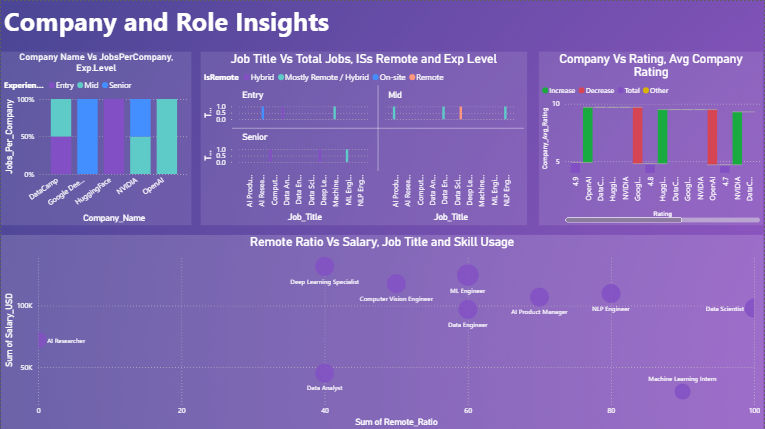

The dashboard page shown, as its layout file describes it:
{"tool":"powerbi","page":{"name":"Company & Role Insights","canvas":[1280,720],"ordinal":2},"visuals":[{"type":"hundredPercentStackedColumnChart","title":"Company Name Vs JobsPerCompany, Exp.Level","fields":{"Category":["Dim_Companies.Company_Name"],"Y":["Dim_Companies.Jobs_Per_Company"],"Series":["Fact_Jobs.Experience_Level"]},"box":[0,84.6,319.7,291.5],"z":0},{"type":"clusteredColumnChart","title":"Job Title Vs Total Jobs, ISs Remote and Exp Level","fields":{"Category":["Fact_Jobs.Job_Title"],"Y":["Fact_Jobs.Total_Jobs"],"Series":["Fact_Jobs.IsRemote"],"Rows":["Fact_Jobs.Experience_Level"]},"box":[336.2,84.6,547.8,291.5],"z":1000},{"type":"waterfallChart","title":"Company Vs Rating, Avg Company Rating","fields":{"Category":["Dim_Companies.Rating"],"Breakdown":["Dim_Companies.Company_Name"],"Y":["Dim_Companies.Company_Avg_Rating"]},"box":[902.8,84.6,376.2,291.5],"z":2000},{"type":"scatterChart","title":"Remote Ratio Vs Salary, Job Title and Skill Usage ","fields":{"Category":["Fact_Jobs.Job_Title"],"X":["Sum(Fact_Jobs.Remote_Ratio)"],"Y":["Sum(Fact_Jobs.Salary_USD)"],"Size":["Dim_Skills.Skill_Usage_Count"]},"box":[0,392.6,1279,326.8],"z":2001},{"type":"textbox","box":[0,0,569.8,84],"z":2002}]}

Visuals, with their boxes in screenshot pixels (x1, y1, x2, y2), scaled from the page's 1280x720 canvas onto the 765x429 screenshot:
"Company Name Vs JobsPerCompany, Exp.Level" hundredPercentStackedColumnChart: 0:50:191:224
"Job Title Vs Total Jobs, ISs Remote and Exp Level" clusteredColumnChart: 201:50:528:224
"Company Vs Rating, Avg Company Rating" waterfallChart: 540:50:764:224
"Remote Ratio Vs Salary, Job Title and Skill Usage " scatterChart: 0:234:764:428
textbox: 0:0:341:50
